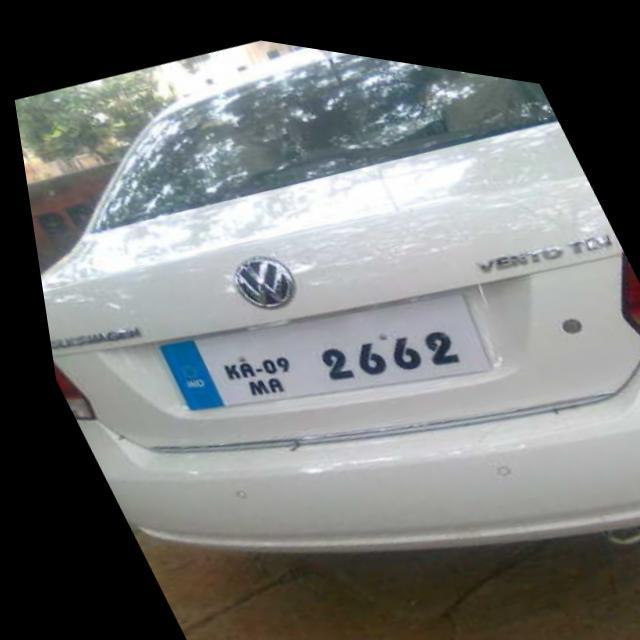license_plate: (132, 222, 494, 464)
